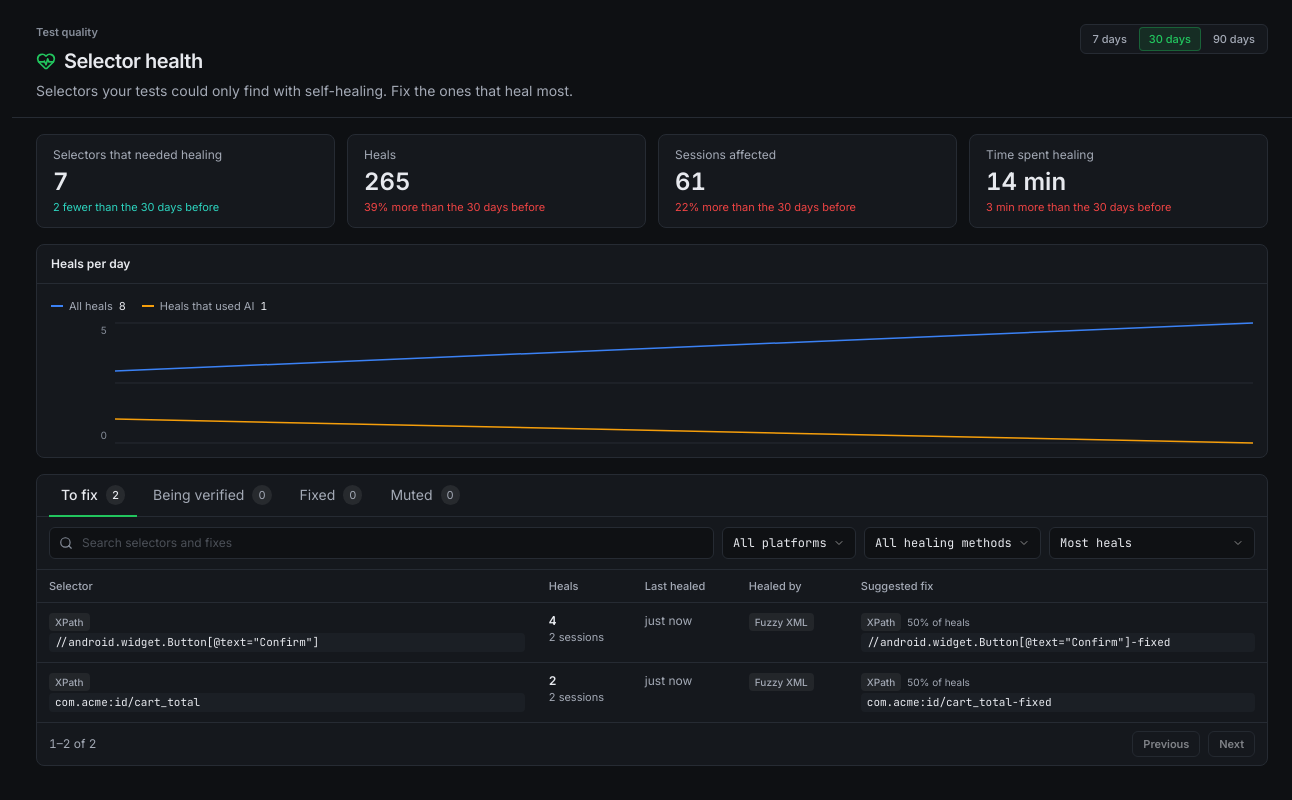
Scenario: SelectorHealthPage › opens a selector beside the list, narrowing it, and keeps it in the address
Click the text "//android.widget.Button[@text=\"Confirm\"]": (287, 643) [49,633,525,652]
(page scrolled)
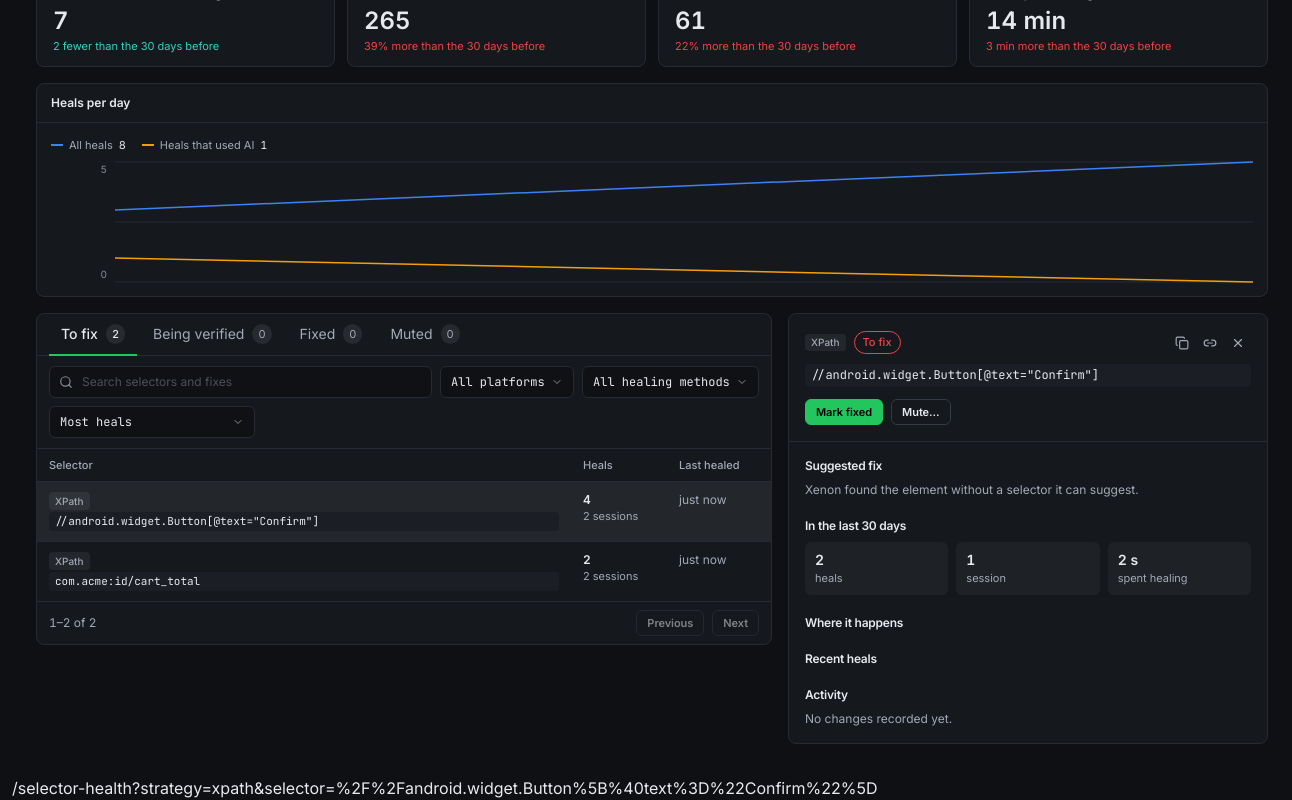
Expected: the element named "Selector details" is shown, [788,312,1268,744]
